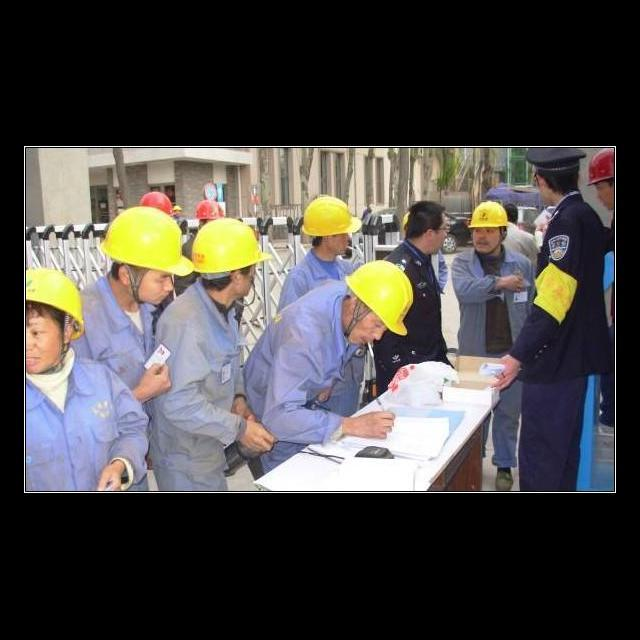Capacete: (101, 206, 192, 275), (345, 260, 412, 335), (192, 218, 271, 273), (26, 268, 83, 339), (302, 196, 361, 236), (468, 201, 507, 227), (588, 148, 615, 185), (139, 191, 172, 214), (196, 200, 223, 219), (403, 212, 409, 229), (172, 204, 181, 213)
Pessoa: (494, 148, 610, 490), (244, 261, 412, 470), (150, 218, 274, 490), (25, 268, 147, 490), (75, 206, 192, 402), (373, 201, 449, 392), (452, 201, 532, 357), (278, 196, 361, 311), (589, 148, 614, 251), (503, 203, 538, 272), (139, 191, 173, 216), (534, 206, 554, 248), (195, 200, 223, 228), (432, 249, 448, 293)
